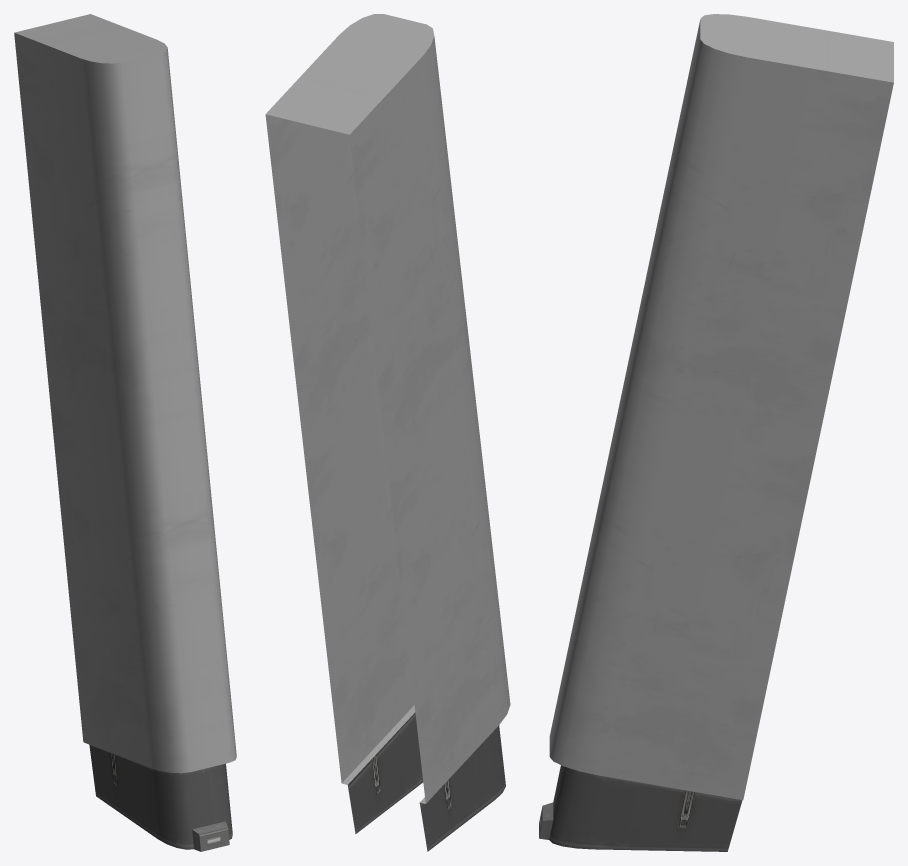
File: column_astra.glb
The picture shows the model from 3 angles, left to right: view 1: azimuth 30°, elevation 25°; view 2: azimuth 150°, elevation 25°; view 3: azimuth 270°, elevation 25°; orthographic projection. The views are drawn at different scales.
Visible parts, largest first — view 1: Column_Astra; view 2: Column_Astra; view 3: Column_Astra.
Boxes of the visible parts, box(x1,y1,x2,y2) form: Column_Astra: box(14, 14, 236, 851); Column_Astra: box(265, 14, 510, 851); Column_Astra: box(539, 14, 893, 851).
Size of the model in its own units: 0.3278 by 3.03 by 1.21.
Materials: 3 (3 with a texture image).
